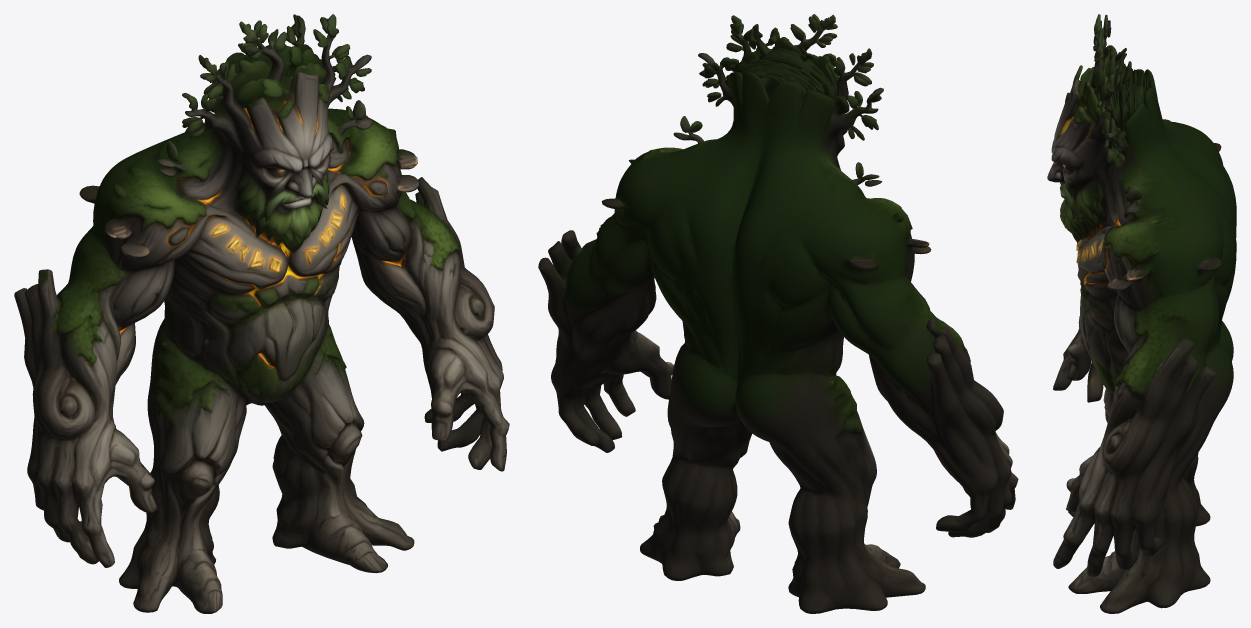
The model's file is 20261109160202_77bcb8f5.glb.
The picture shows the model from 3 angles, left to right: view 1: azimuth 30°, elevation 25°; view 2: azimuth 150°, elevation 25°; view 3: azimuth 270°, elevation 25°; orthographic projection. The views are drawn at different scales.
Visible parts, largest first — view 1: Mesh_0; view 2: Mesh_0; view 3: Mesh_0.
Boxes of the visible parts, x1,y1,x2,y2 form: Mesh_0: [14, 14, 509, 613]; Mesh_0: [538, 14, 1018, 613]; Mesh_0: [1047, 14, 1236, 613].
Bounding box in the file's own units: 0.9131 × 1.07 × 0.3506.
1 material, 1 textured.
